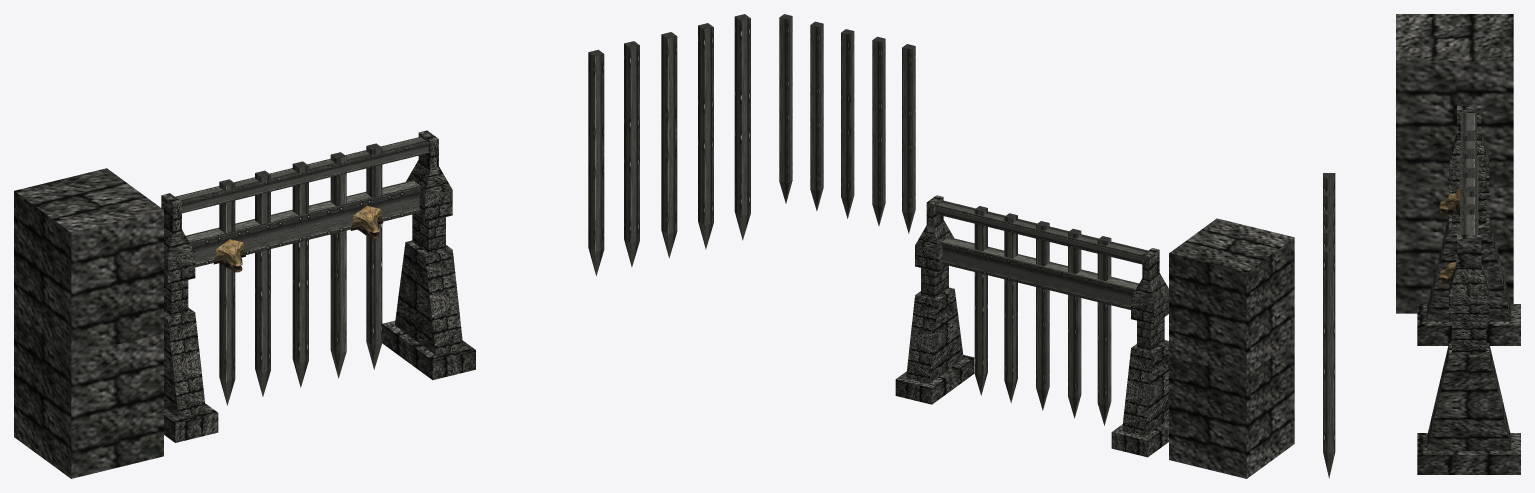
The model's file is yewaifangzi_004.FBX.
3 views of the same model, side by side, from view 1: azimuth 30°, elevation 25°; view 2: azimuth 150°, elevation 25°; view 3: azimuth 270°, elevation 25° (orthographic). The views are drawn at different scales.
Visible parts, largest first — view 1: Object011, qiangdun_001, Object010; view 2: Object011, qiangdun_001, Object010; view 3: qiangdun_001, Object011, Object010.
Part boxes in pixels (x1,y1,x2,y2): Object011: (161, 130, 475, 442); qiangdun_001: (14, 168, 163, 478); Object010: (588, 14, 750, 275); Object011: (895, 195, 1168, 457); qiangdun_001: (1169, 218, 1294, 478); Object010: (779, 14, 915, 233); qiangdun_001: (1396, 14, 1513, 313); Object011: (1417, 105, 1520, 474); Object010: (1323, 173, 1335, 478).
Bounding box in the file's own units: 1276 × 624 × 330.
